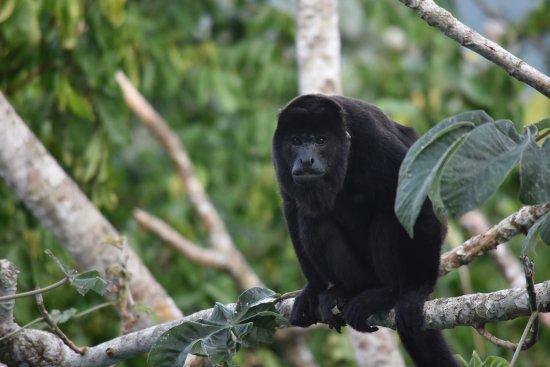monkey: (270, 94, 456, 367)
